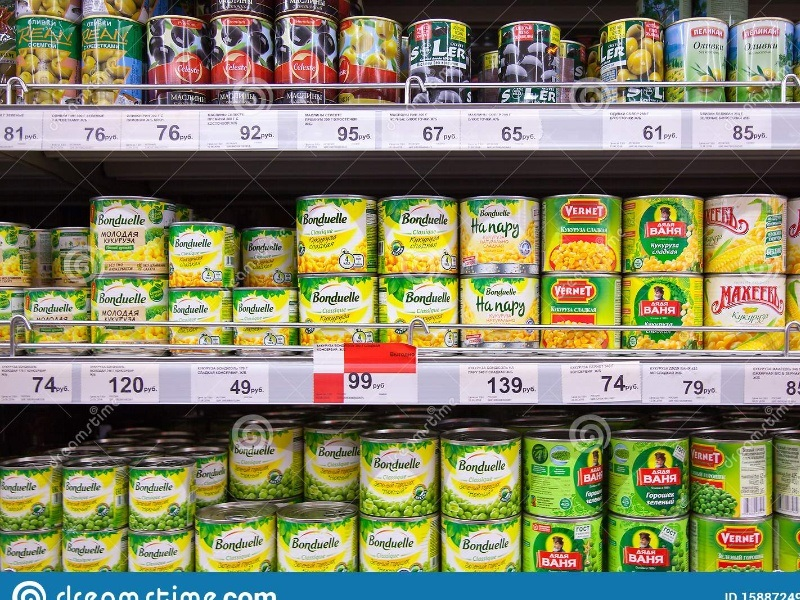peas: (608, 430, 704, 530), (443, 425, 535, 528), (691, 429, 787, 522), (357, 428, 447, 524), (526, 432, 615, 527), (120, 455, 199, 539), (187, 500, 280, 571), (55, 458, 140, 535), (272, 497, 359, 572), (1, 456, 70, 540)
